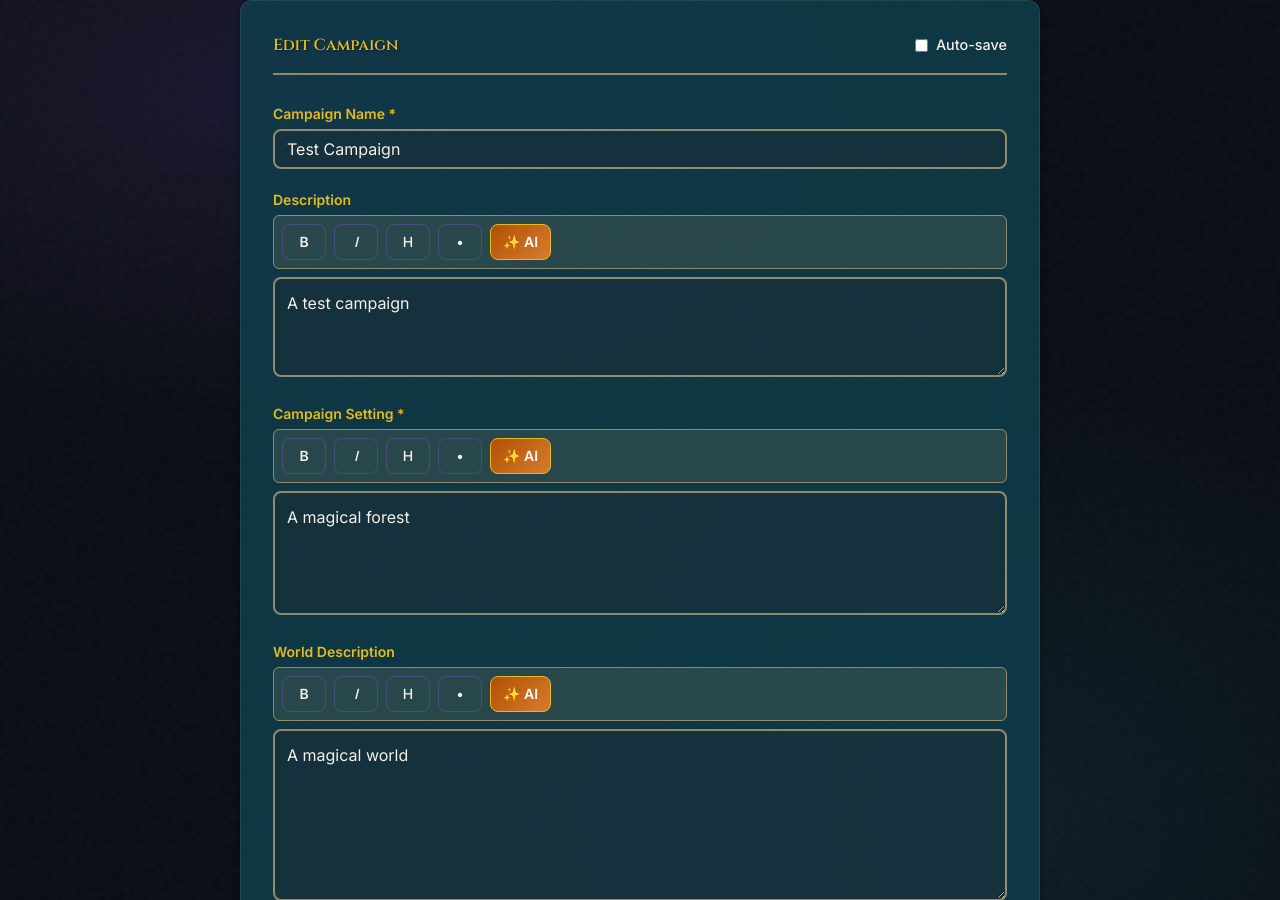
it: CampaignEditor › shows AI suggestions when AI button is clicked
The width and height of the screenshot is (1280, 900).
Click the AI assistance button for description
What coordinates should you click on to do the following:
click the 1st button "✨ AI"
I would click on:
 (521, 242)
Its box is [490,224,551,260].
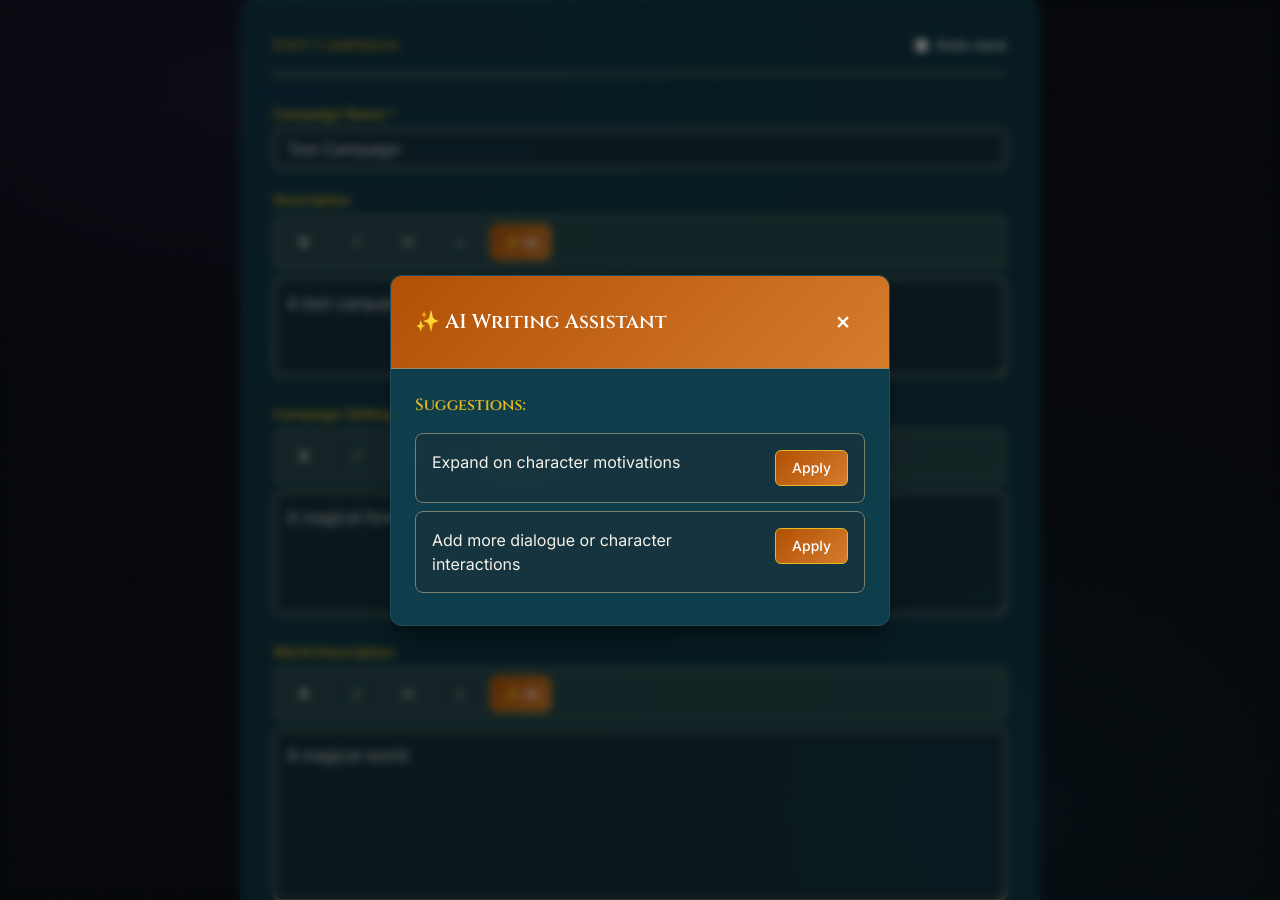
expect the heading "✨ AI Writing Assistant" is shown: met, box [415,306,666,336]
expect the text "Expand on character motivations" is shown: met, box [432,452,680,472]
